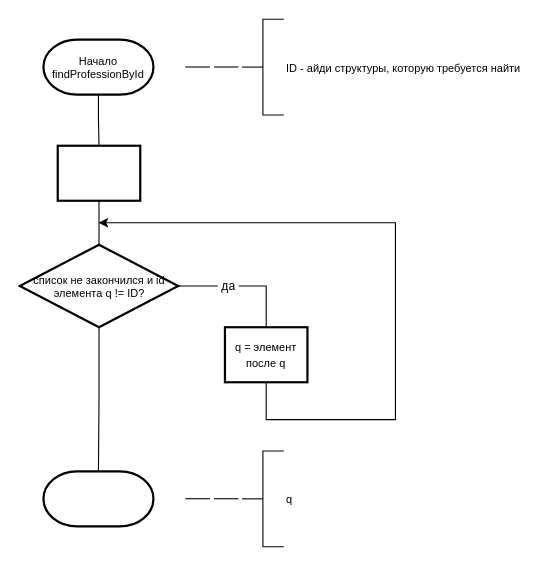
This 539x567 diagram has some shape labels left out. The centre of each missing label's shape, as x and y in pixels:
q = перввый элемент списка профессий: pixel 98 172
Конец findProfessionById: pixel 98 498
